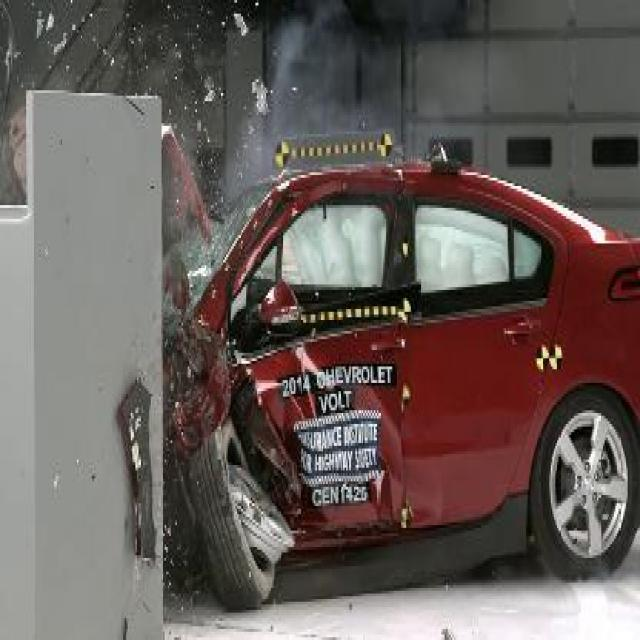accident: (17, 79, 640, 618)
